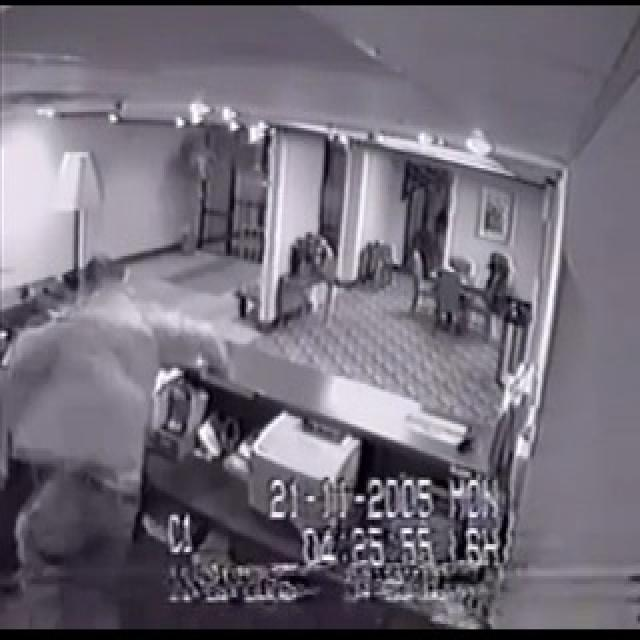thief: (11, 263, 178, 608)
